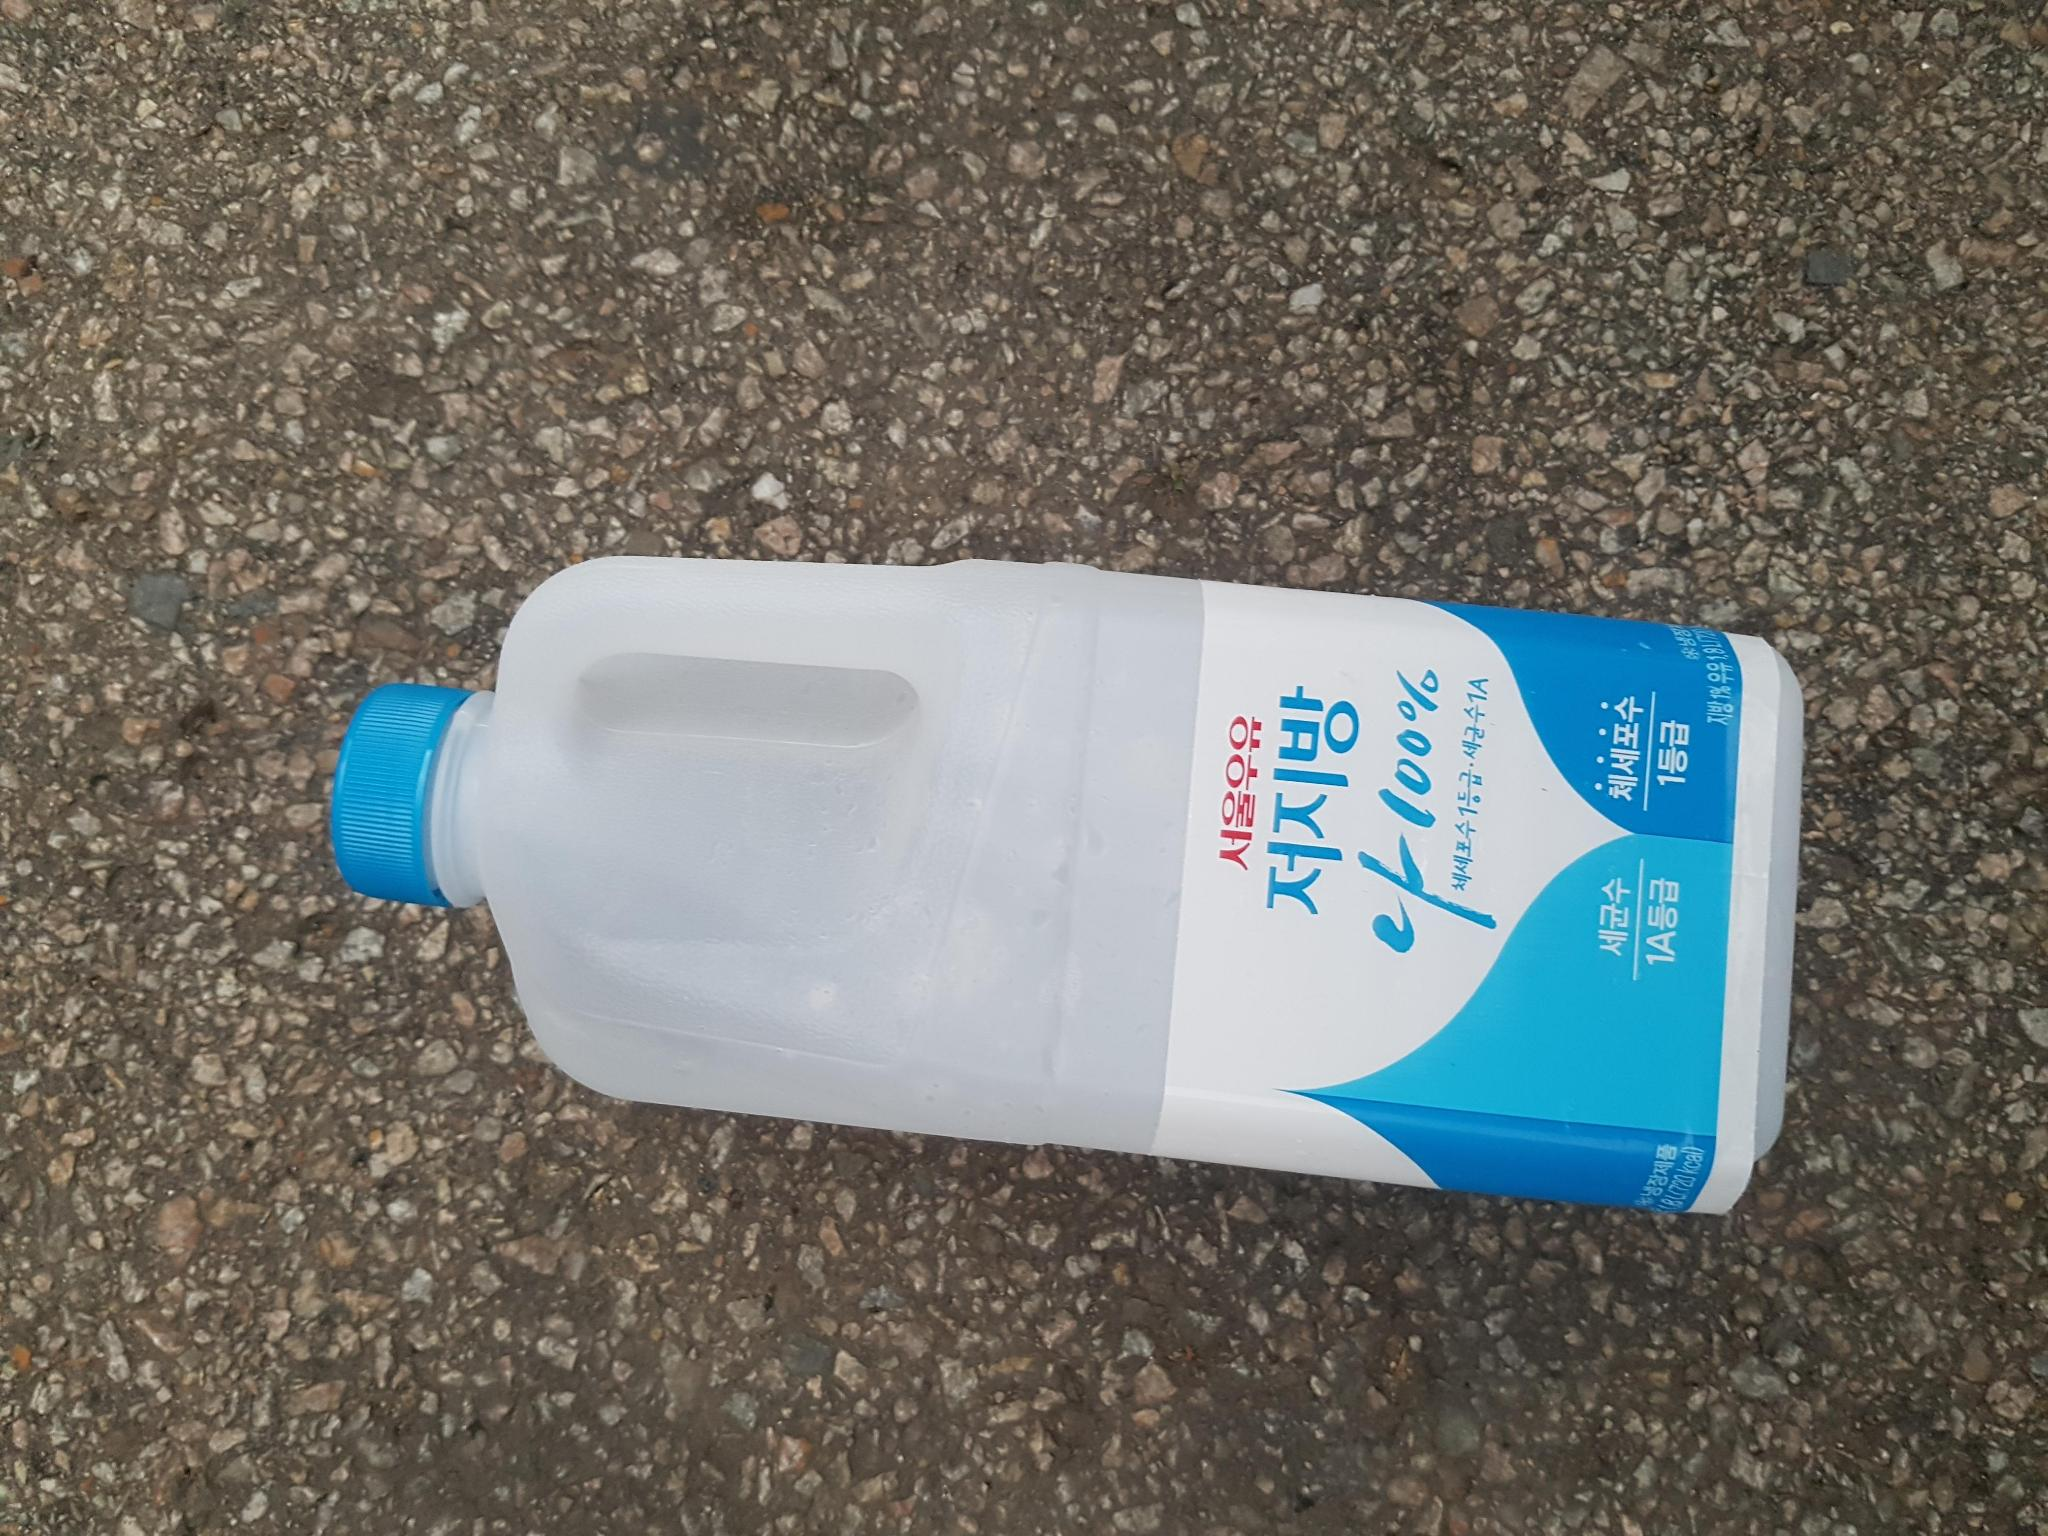bottle: (279, 545, 1827, 1254)
